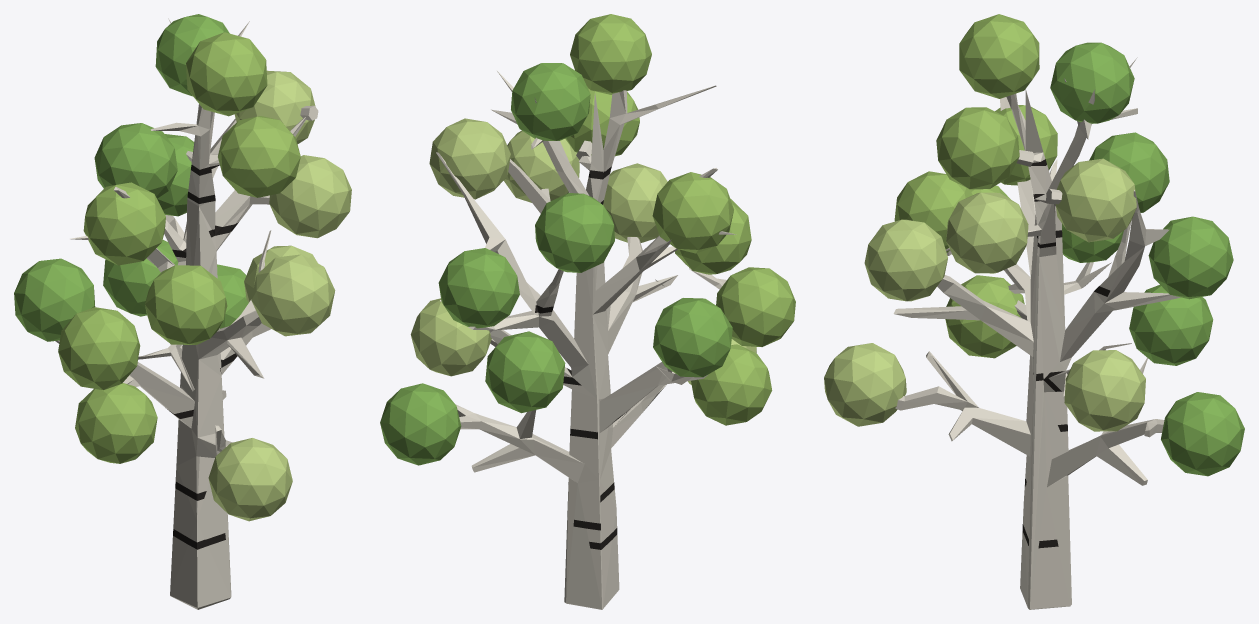
File: mdvl_nature_birch_01.glb
The picture shows the model from 3 angles, left to right: view 1: azimuth 30°, elevation 25°; view 2: azimuth 150°, elevation 25°; view 3: azimuth 270°, elevation 25°; orthographic projection. The views are drawn at different scales.
Visible parts, largest first — view 1: mdvl_nature_birch_01; view 2: mdvl_nature_birch_01; view 3: mdvl_nature_birch_01.
Part boxes in pixels (bbox=[...]): mdvl_nature_birch_01: bbox=[14, 14, 351, 609]; mdvl_nature_birch_01: bbox=[380, 14, 795, 609]; mdvl_nature_birch_01: bbox=[824, 14, 1244, 609].
Size of the model in its own units: 2.88 by 4.97 by 3.26.
Materials: 1 (1 with a texture image).
